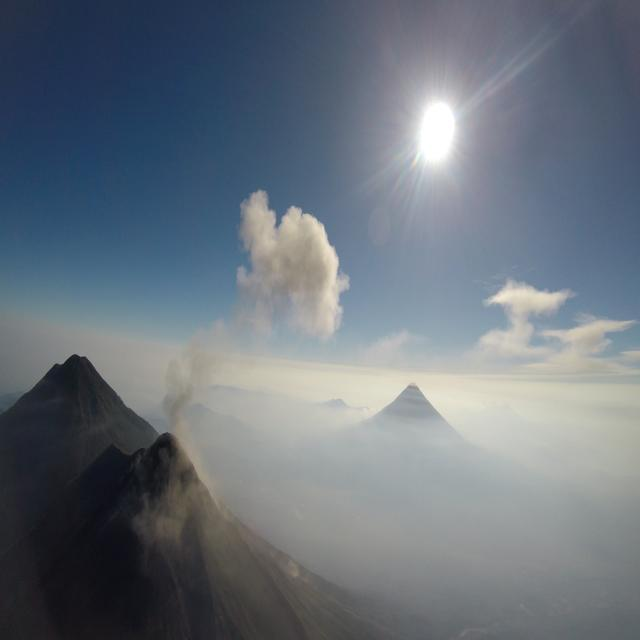Plume: (238, 192, 345, 346), (166, 327, 228, 414)
Summit: (113, 421, 219, 506)
